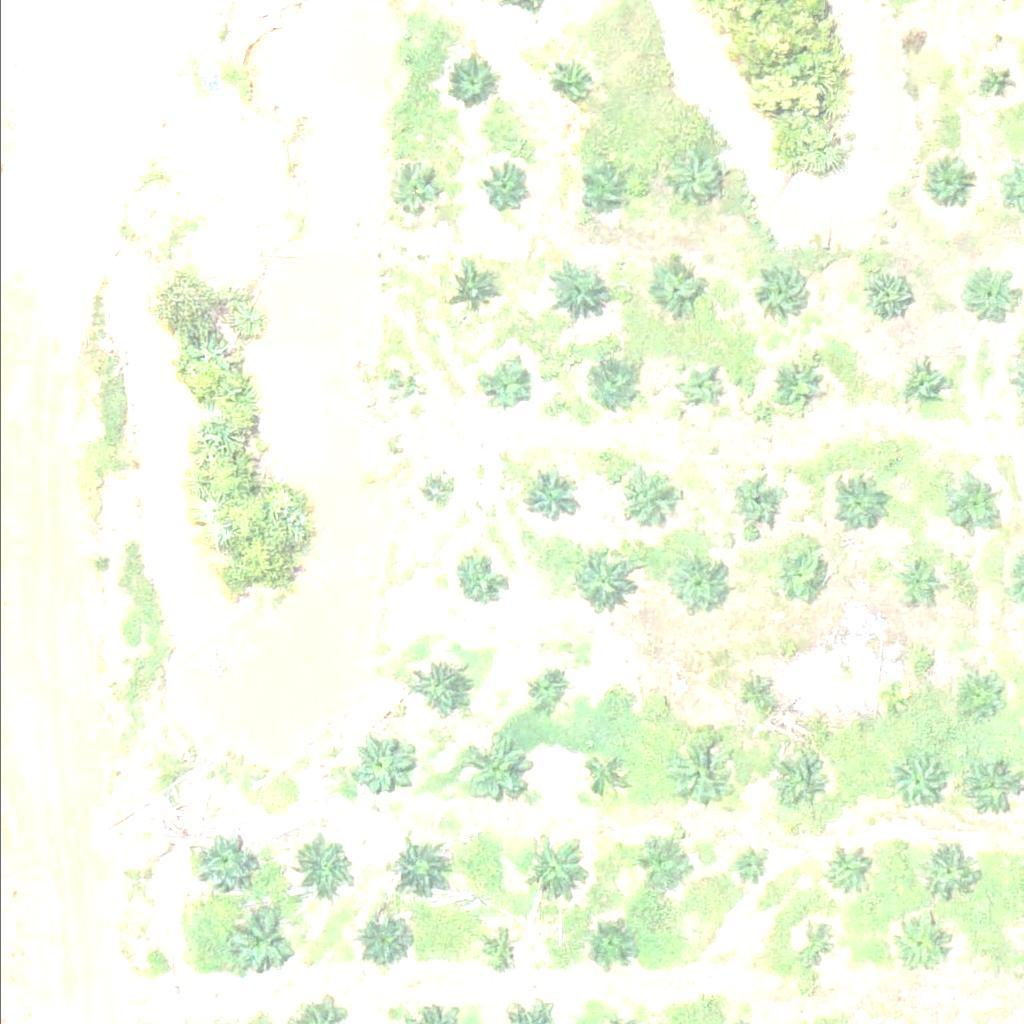Kelapa_Sawit: (671, 737, 747, 812), (222, 898, 298, 973), (464, 734, 527, 797), (959, 756, 1022, 819), (541, 259, 604, 322), (287, 831, 350, 894), (355, 730, 418, 793), (190, 830, 253, 893), (523, 833, 586, 895), (575, 550, 638, 612), (612, 468, 675, 530), (767, 748, 830, 810), (665, 547, 728, 609), (912, 150, 975, 212), (770, 354, 833, 416), (410, 653, 473, 715), (881, 753, 943, 815), (386, 838, 448, 900), (358, 905, 420, 967), (486, 357, 537, 407), (585, 361, 636, 411), (648, 259, 699, 309), (962, 270, 1013, 320), (663, 153, 714, 203), (580, 164, 631, 214), (482, 164, 533, 214), (443, 264, 494, 314), (861, 267, 912, 317), (897, 358, 948, 408), (521, 472, 571, 522), (454, 553, 504, 603), (737, 479, 787, 529), (943, 482, 993, 532), (833, 478, 883, 528), (960, 668, 1010, 718), (925, 849, 975, 899), (893, 919, 943, 969), (630, 832, 680, 882), (777, 545, 827, 595), (759, 264, 809, 314), (443, 55, 493, 105), (583, 918, 633, 968), (574, 749, 624, 799), (517, 664, 567, 714), (734, 672, 784, 722), (382, 166, 432, 216), (547, 58, 597, 108), (821, 844, 871, 894), (899, 560, 937, 598), (474, 934, 512, 972), (731, 847, 769, 885), (795, 928, 833, 966), (682, 367, 720, 404), (978, 65, 1016, 102), (426, 478, 451, 503), (884, 681, 909, 706), (649, 688, 674, 713), (392, 383, 417, 408)
